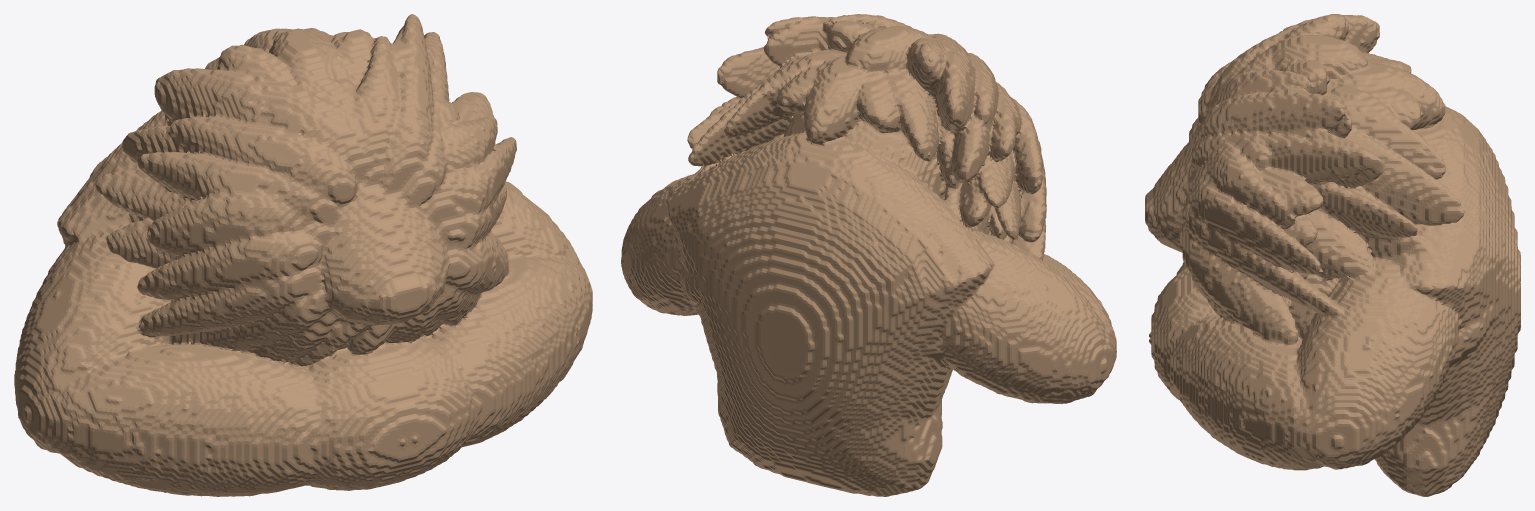
Rendered from statue_harlyao_1.glb.
3 renders of one model, left to right at view 1: azimuth 30°, elevation 25°; view 2: azimuth 150°, elevation 25°; view 3: azimuth 270°, elevation 25°, orthographic. The views are drawn at different scales.
Parts seen in each view (by area): view 1: ExteriorOnly_HollowRemesh; view 2: ExteriorOnly_HollowRemesh; view 3: ExteriorOnly_HollowRemesh.
Boxes of the visible parts, box(x1,y1,x2,y2) form: ExteriorOnly_HollowRemesh: box(14, 14, 592, 496); ExteriorOnly_HollowRemesh: box(621, 14, 1116, 496); ExteriorOnly_HollowRemesh: box(1145, 14, 1520, 496).
Size of the model in its own units: 6.29 by 5.26 by 4.19.
